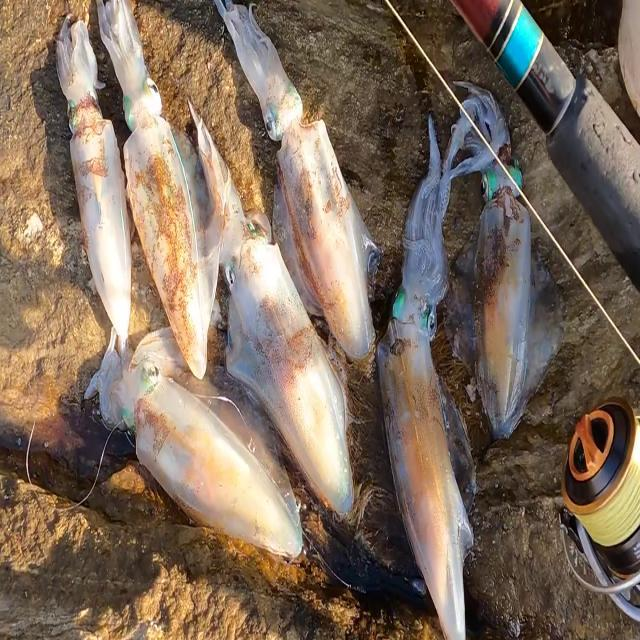squid: (188, 106, 352, 524), (375, 122, 478, 640), (98, 0, 222, 378), (444, 79, 562, 440), (110, 363, 303, 558), (58, 19, 134, 342), (212, 0, 344, 185)
